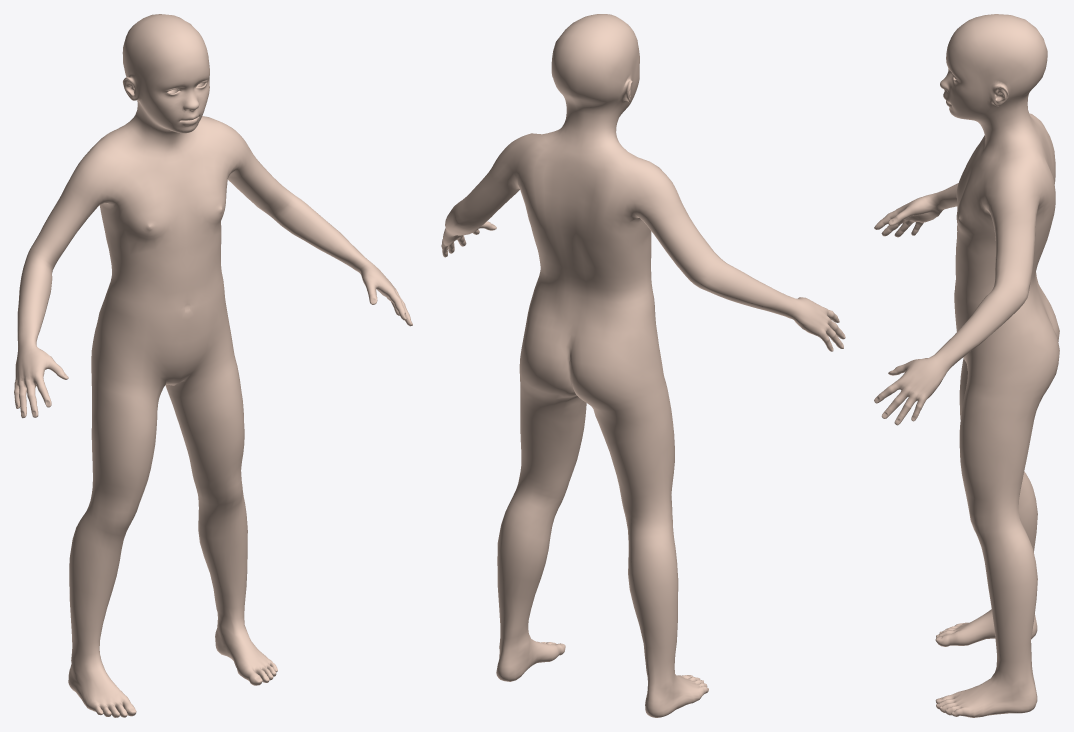
File: patient-child.glb
3 renders of one model, left to right at view 1: azimuth 30°, elevation 25°; view 2: azimuth 150°, elevation 25°; view 3: azimuth 270°, elevation 25°, orthographic.
Visible parts, largest first — view 1: Human_patient-child; view 2: Human_patient-child; view 3: Human_patient-child.
Boxes of the visible parts, bbox=[...] form: Human_patient-child: bbox=[14, 14, 412, 717]; Human_patient-child: bbox=[441, 14, 845, 717]; Human_patient-child: bbox=[874, 14, 1059, 717].
Size of the model in its own units: 0.7465 by 1.21 by 0.3096.
